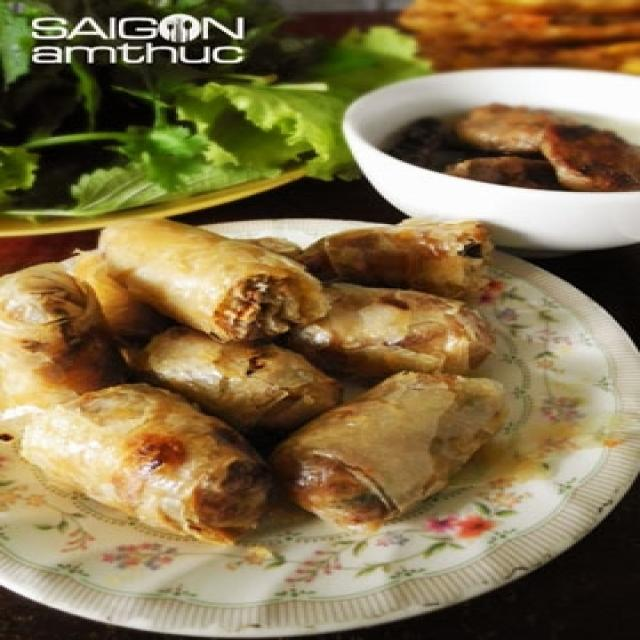炸货点心: (20, 82, 532, 605)
